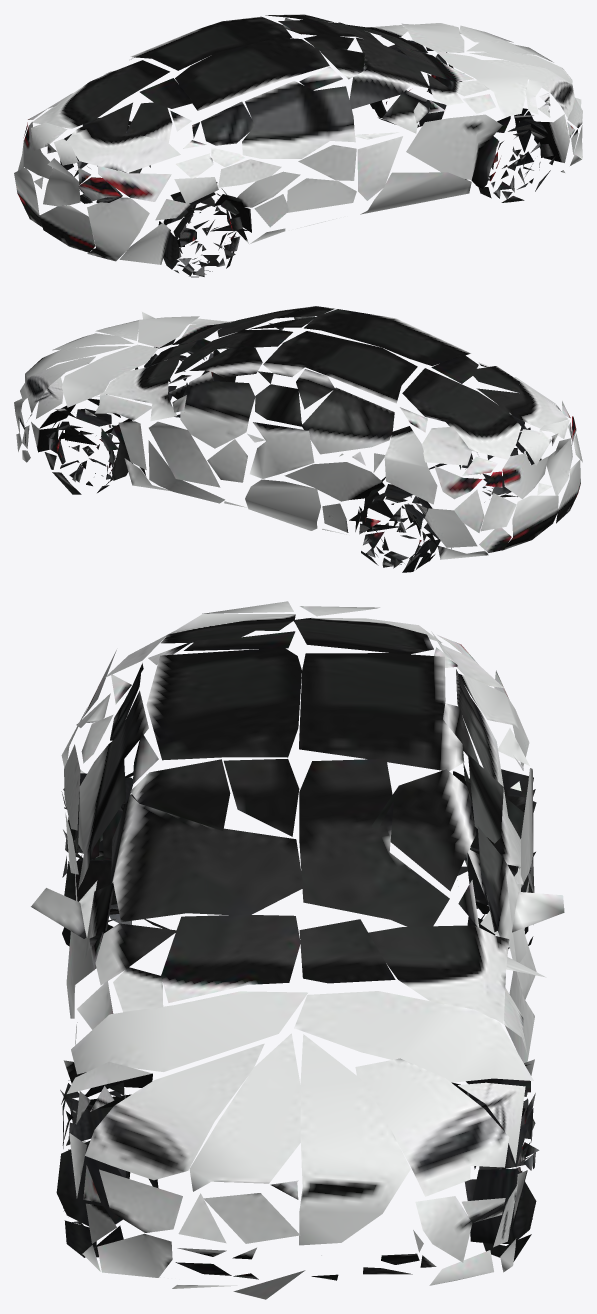
File: parked_model_s_far.glb
The picture shows the model from 3 angles, top to bottom: view 1: azimuth 30°, elevation 25°; view 2: azimuth 150°, elevation 25°; view 3: azimuth 270°, elevation 25°; orthographic projection. The views are drawn at different scales.
Visible parts, largest first — view 1: body.001, glass.001, trim_black.001, wheel_RR.001, wheel_FR.001, wheel_FL.001, wheel_RL.001; view 2: body.001, glass.001, trim_black.001, wheel_FL.001, wheel_RL.001, wheel_FR.001, wheel_RR.001; view 3: glass.001, body.001, trim_black.001, wheel_FR.001, wheel_FL.001, wheel_RR.001, wheel_RL.001.
Part boxes in pixels (x1,y1,x2,y2): body.001: [14, 23, 582, 264]; glass.001: [51, 14, 455, 145]; trim_black.001: [18, 26, 578, 260]; wheel_RR.001: [158, 188, 251, 277]; wheel_FR.001: [471, 115, 564, 202]; wheel_FL.001: [370, 40, 455, 127]; wheel_RL.001: [60, 117, 150, 203]; body.001: [14, 312, 582, 559]; glass.001: [142, 306, 540, 446]; trim_black.001: [20, 323, 577, 553]; wheel_FL.001: [38, 404, 132, 494]; wheel_RL.001: [349, 477, 440, 572]; wheel_FR.001: [144, 339, 236, 417]; wheel_RR.001: [459, 414, 541, 497]; glass.001: [80, 614, 503, 984]; body.001: [31, 601, 564, 1299]; trim_black.001: [67, 618, 525, 1280]; wheel_FR.001: [56, 1060, 146, 1257]; wheel_FL.001: [451, 1059, 539, 1261]; wheel_RR.001: [61, 772, 133, 948]; wheel_RL.001: [453, 769, 536, 948].
Size of the model in its own units: 4.76 by 1.51 by 2.11.
4 materials, 4 textured.
